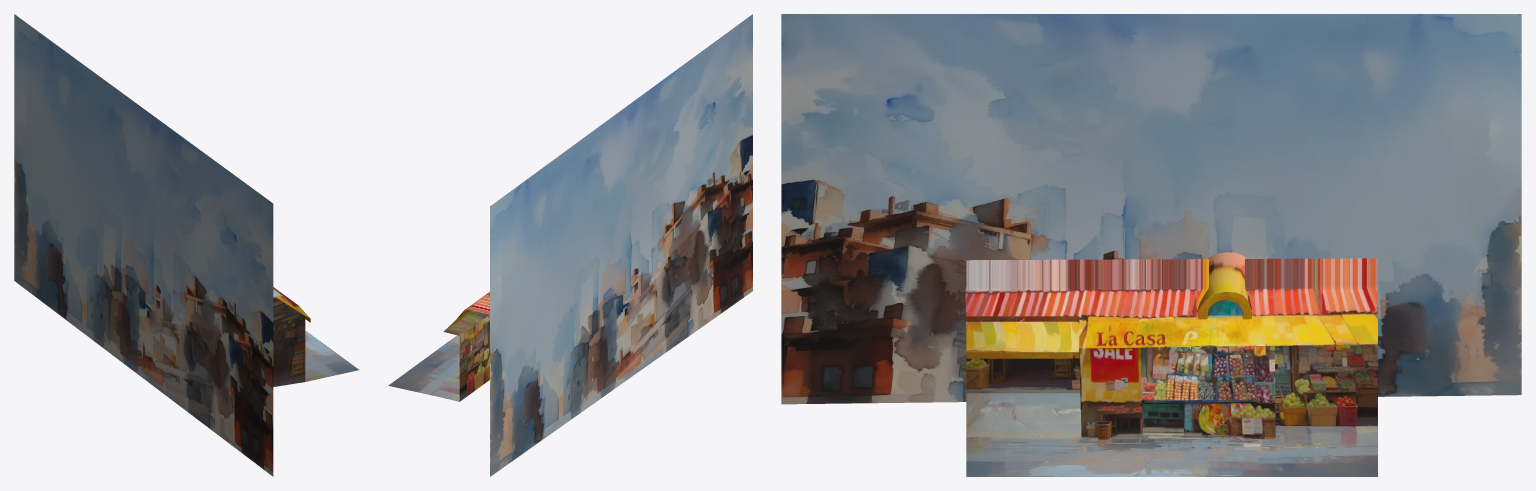
The model's file is KS_CanvasCasa.glb.
The picture shows the model from 3 angles, left to right: view 1: azimuth 30°, elevation 25°; view 2: azimuth 150°, elevation 25°; view 3: azimuth 270°, elevation 25°; orthographic projection. The views are drawn at different scales.
Parts seen in each view (by area): view 1: SM_Sky, SM_Arq; view 2: SM_Sky, SM_Arq; view 3: SM_Sky, SM_Arq.
Boxes of the visible parts, x1,y1,x2,y2 form: SM_Sky: (14, 14, 273, 476); SM_Arq: (273, 287, 358, 386); SM_Sky: (490, 14, 752, 476); SM_Arq: (388, 292, 489, 401); SM_Sky: (781, 14, 1521, 404); SM_Arq: (965, 252, 1377, 476).
Bounding box in the file's own units: 7.55 × 13.08 × 22.47.
3 materials, 3 textured.
